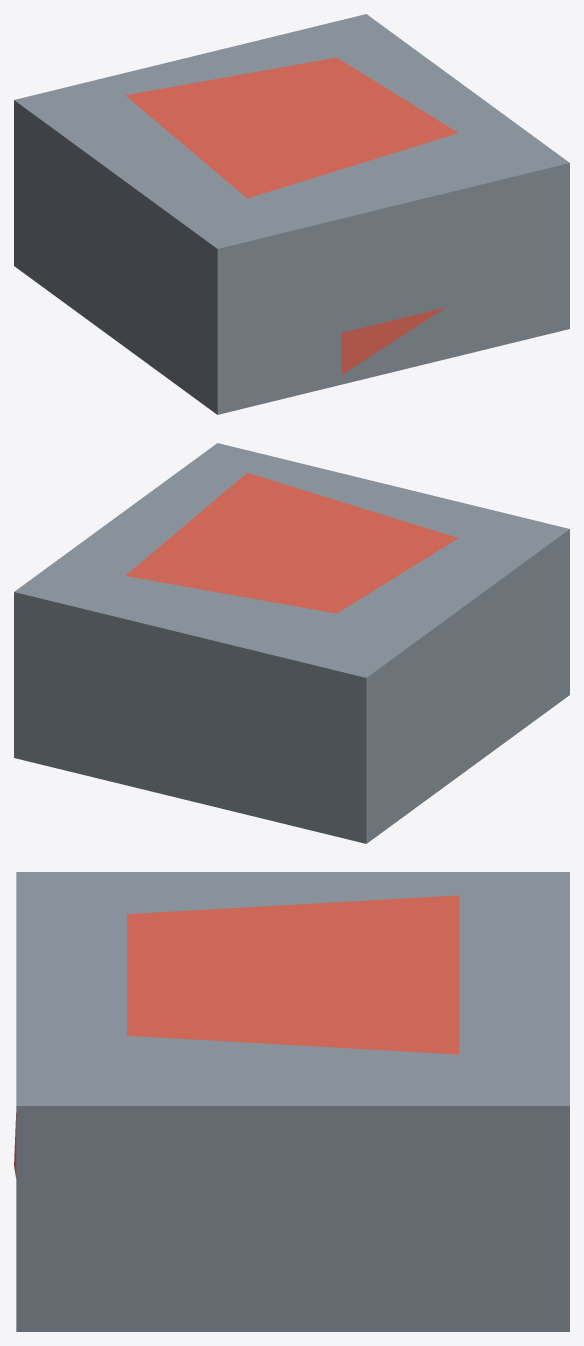
File: SU_Airfield_LOD1.glb
The picture shows the model from 3 angles, top to bottom: view 1: azimuth 30°, elevation 25°; view 2: azimuth 150°, elevation 25°; view 3: azimuth 270°, elevation 25°; orthographic projection. The views are drawn at different scales.
Visible parts, largest first — view 1: EntranceGate; view 2: EntranceGate; view 3: EntranceGate.
Part boxes in pixels (left/top/right/bottom): EntranceGate: left=14, top=14, right=569, bottom=414; EntranceGate: left=14, top=443, right=569, bottom=843; EntranceGate: left=14, top=872, right=569, bottom=1331.
Size of the model in its own units: 800 by 398 by 803.
